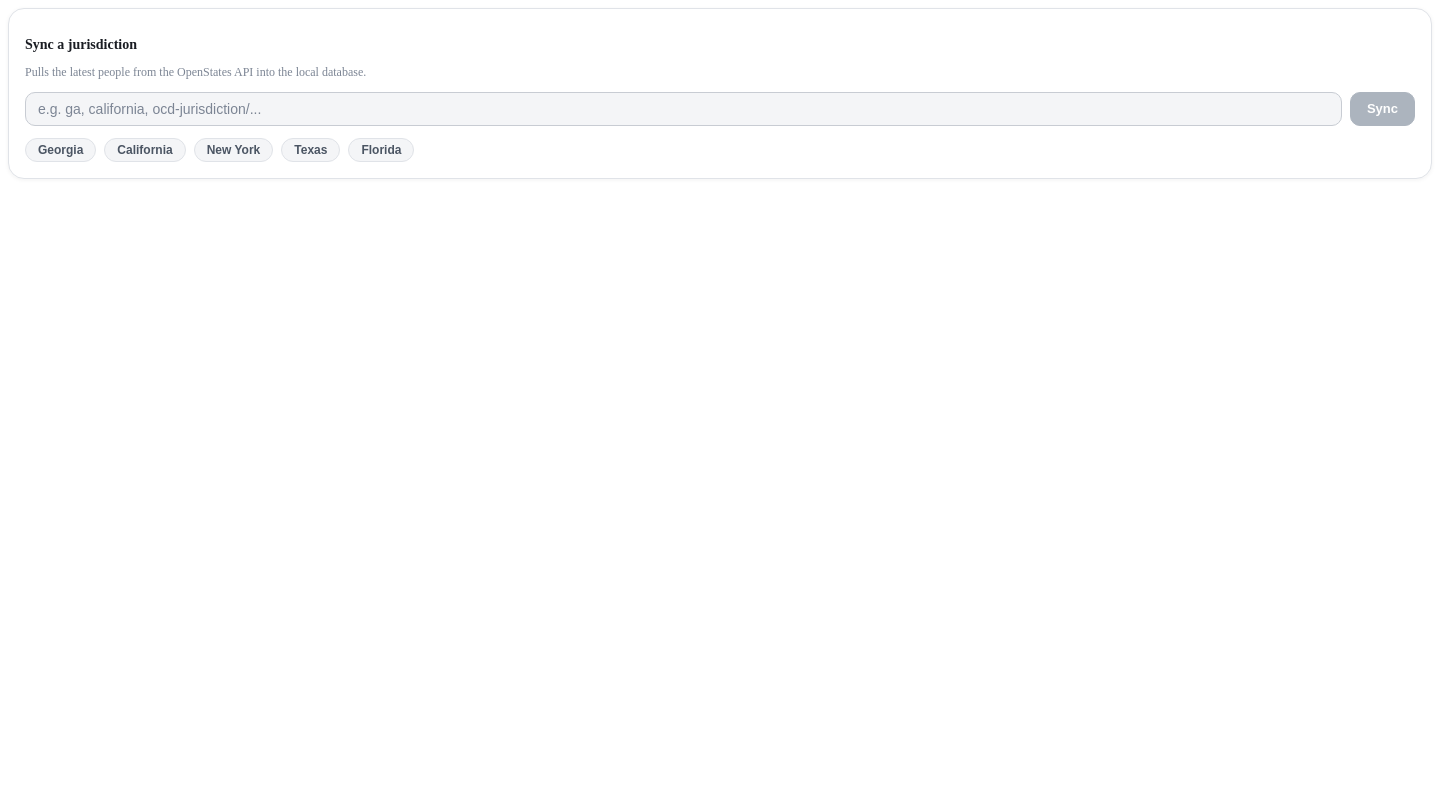
Test: SyncPanel › cancels the confirm dialog without syncing
Type "ocd-jurisdiction/country:us/state:ga/government" into the field named "Jurisdiction to sync".
click(683, 109); type("ocd-jurisdiction/country:us/state:ga/government")  # box left=25, top=92, right=1342, bottom=126
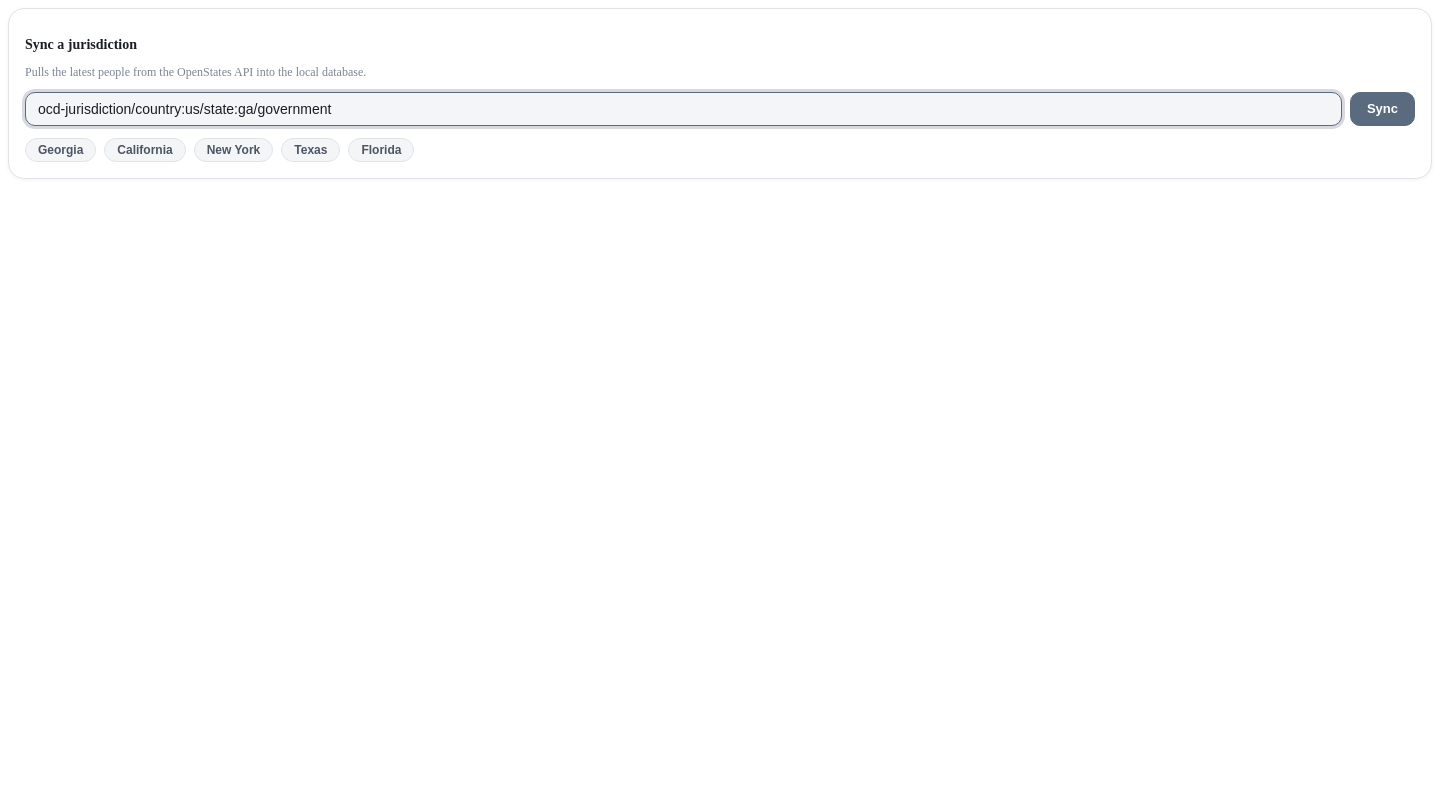
Click the button "Sync".
click(1382, 109)  # box left=1350, top=92, right=1415, bottom=126
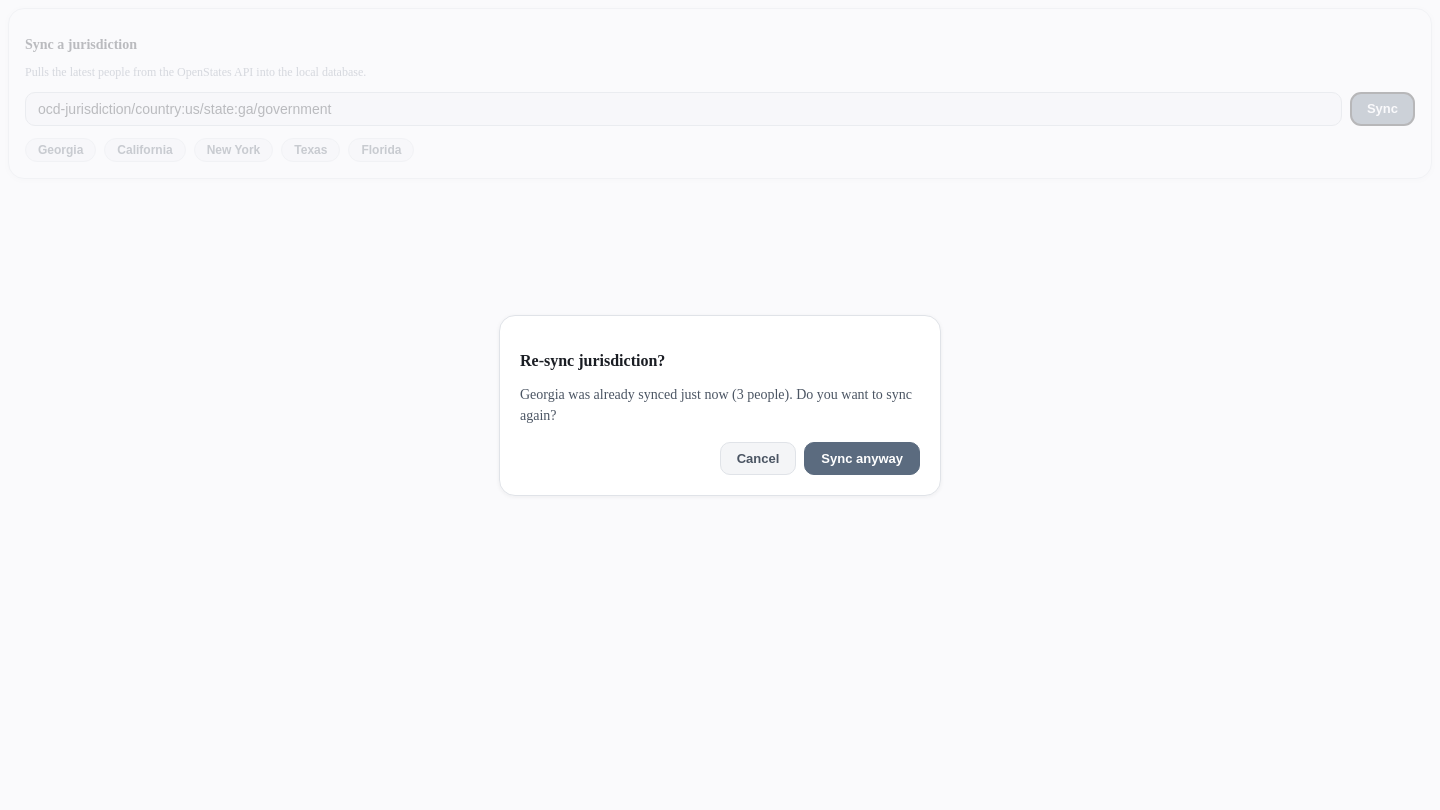
Expected: the heading "Re-sync jurisdiction?" is shown, left=520, top=352, right=665, bottom=368
Click the button "Cancel".
click(758, 458)  # box left=720, top=442, right=796, bottom=474
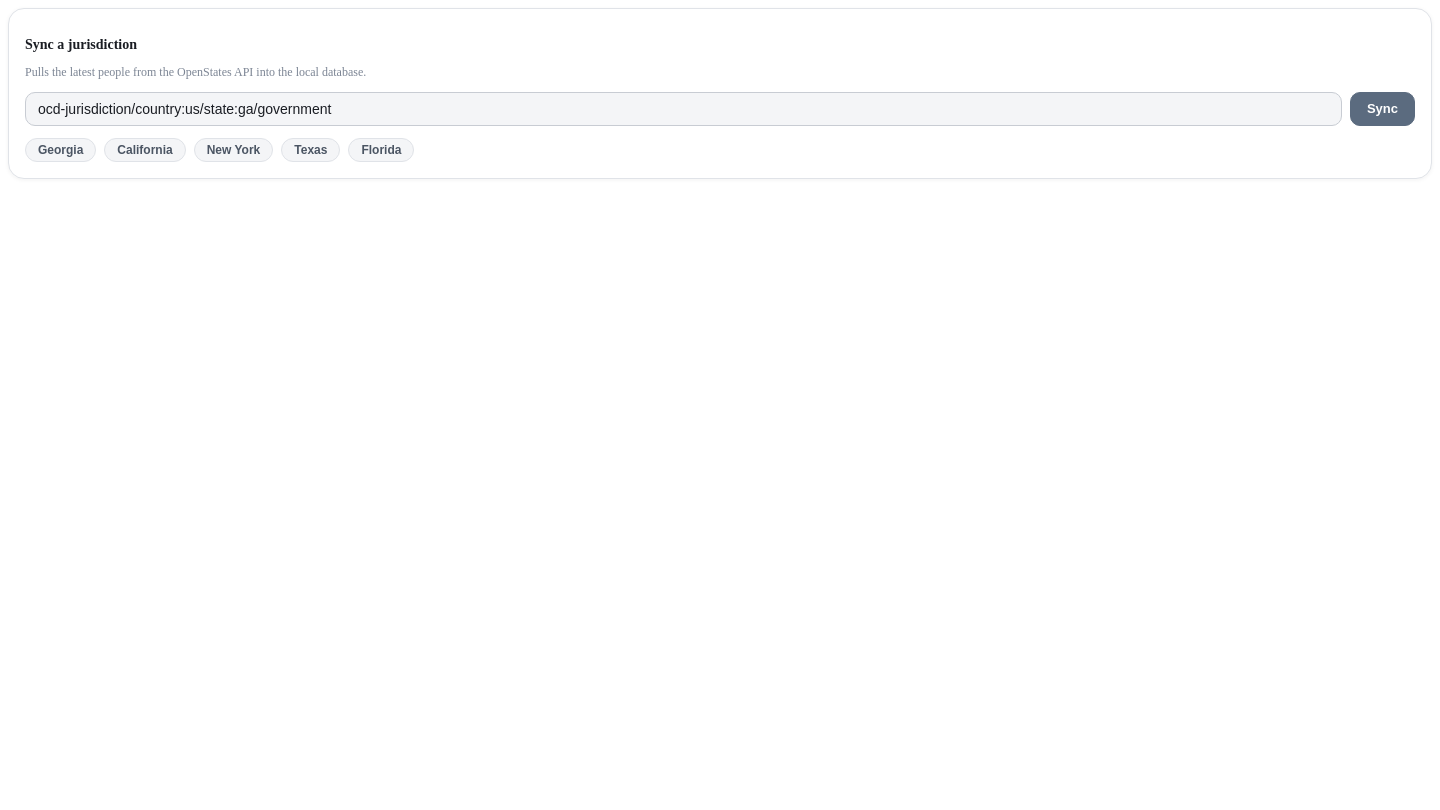
Expected: the heading "Re-sync jurisdiction?" is gone
